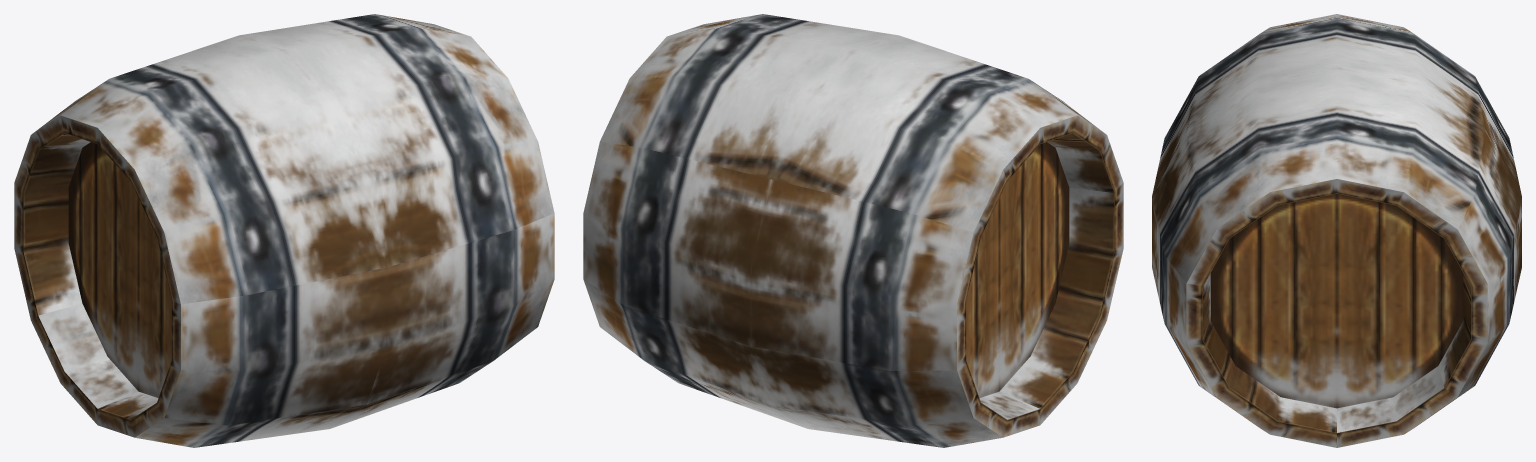
File: SV_AFT_snow_mutong_0.FBX
3 renders of one model, left to right at view 1: azimuth 30°, elevation 25°; view 2: azimuth 150°, elevation 25°; view 3: azimuth 270°, elevation 25°, orthographic. The views are drawn at different scales.
Visible parts, largest first — view 1: SV_AFT_snow_mutong_0; view 2: SV_AFT_snow_mutong_0; view 3: SV_AFT_snow_mutong_0.
Boxes of the visible parts, left/top/right/bottom form: SV_AFT_snow_mutong_0: left=14, top=14, right=554, bottom=447; SV_AFT_snow_mutong_0: left=583, top=14, right=1123, bottom=447; SV_AFT_snow_mutong_0: left=1152, top=14, right=1521, bottom=447.
Bounding box in the file's own units: 1.05 × 0.9723 × 0.9925.
